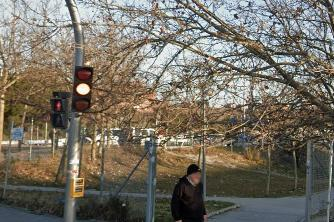yellow_light: (71, 66, 94, 111)
